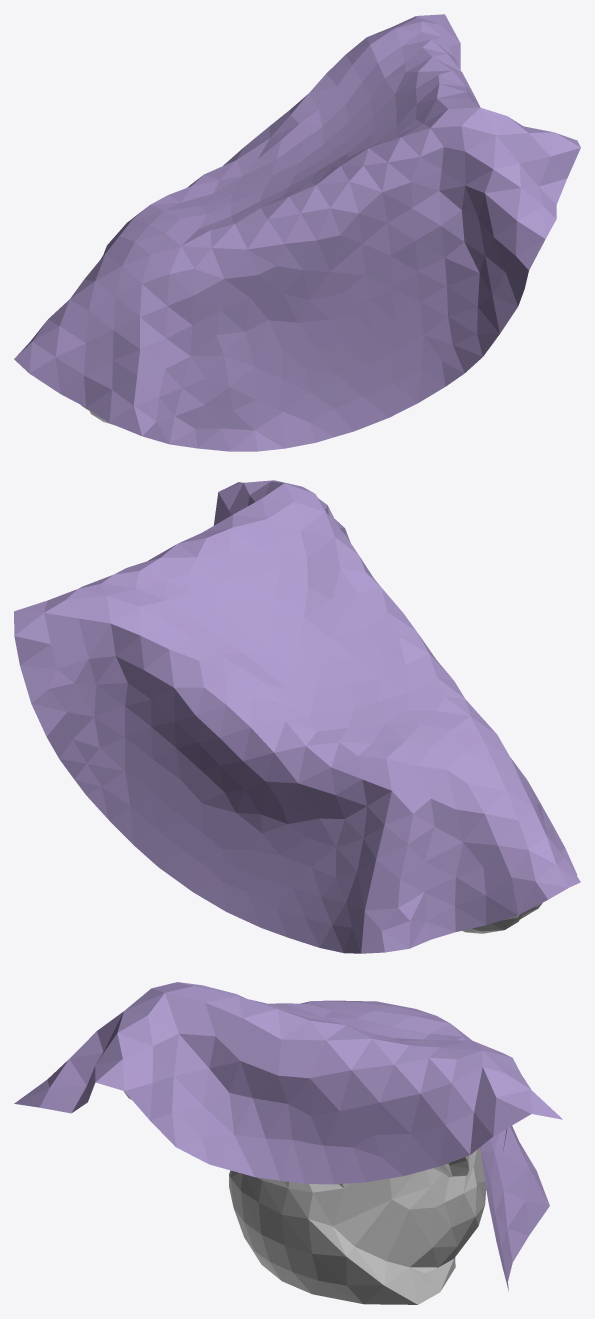
The model's file is level_0.glb.
3 views of the same model, one above another, from view 1: azimuth 30°, elevation 25°; view 2: azimuth 150°, elevation 25°; view 3: azimuth 270°, elevation 25° (orthographic). The views are drawn at different scales.
Parts seen in each view (by area): view 1: world; view 2: world; view 3: world, object.obj.
Part boxes in pixels (x1,y1,x2,y2): world: (14,14,580,451); world: (14,480,580,953); world: (14,982,562,1291); object.obj: (123,1091,486,1304).
Bounding box in the file's own units: 0.4922 × 0.2954 × 0.404.
